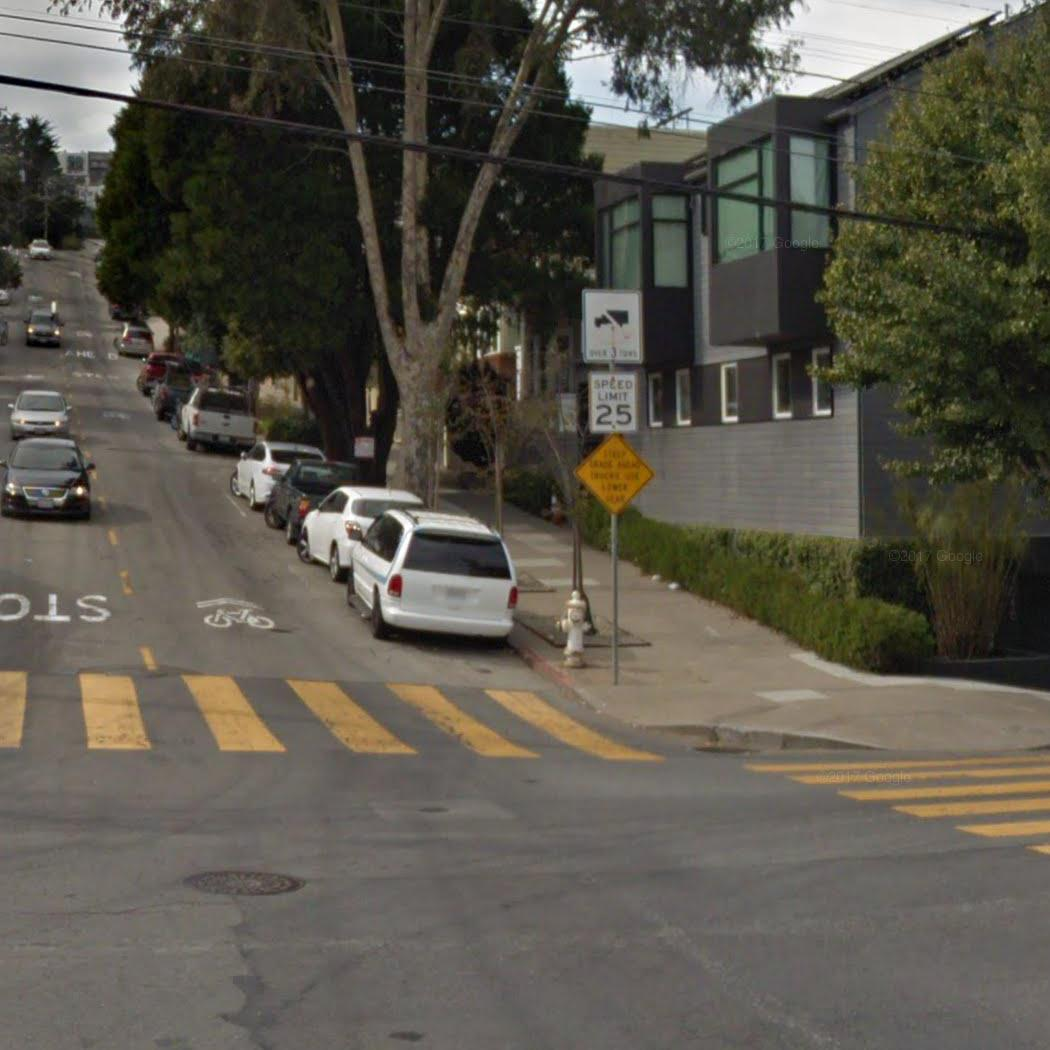No Parking: (351, 431, 378, 462)
